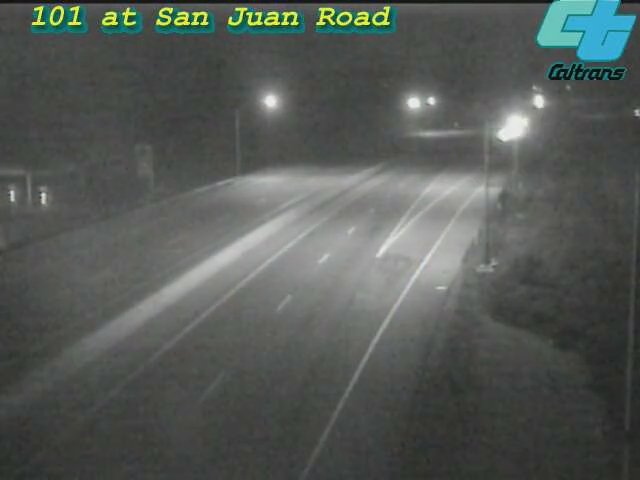vehicle: (489, 100, 539, 150), (480, 111, 530, 161), (513, 75, 563, 125), (610, 88, 640, 138)
